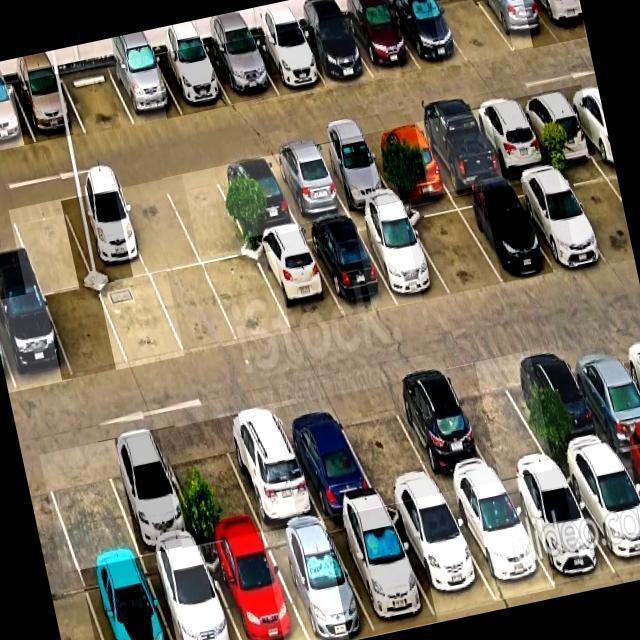empty: (447, 358, 554, 479), (331, 385, 439, 502), (158, 422, 262, 543), (40, 442, 139, 568), (404, 199, 502, 294), (163, 167, 252, 263), (115, 180, 200, 274), (9, 200, 94, 293), (98, 275, 184, 366), (557, 160, 633, 262), (151, 265, 239, 353), (44, 286, 128, 377), (204, 255, 291, 341), (60, 64, 135, 133), (431, 0, 513, 63)
occupied: (324, 507, 437, 635), (386, 370, 499, 492), (385, 496, 497, 615), (262, 521, 374, 640), (502, 469, 615, 586), (444, 481, 555, 600), (217, 404, 321, 529), (98, 431, 200, 554), (275, 398, 378, 516), (514, 344, 615, 464), (201, 533, 309, 640), (560, 453, 640, 579), (506, 170, 607, 269), (454, 187, 552, 282), (252, 229, 343, 331), (143, 545, 240, 640), (303, 218, 397, 316), (353, 209, 450, 302), (563, 336, 640, 451), (60, 190, 149, 284), (81, 557, 172, 640), (0, 293, 72, 390), (415, 112, 503, 191), (214, 156, 299, 237), (266, 146, 349, 224), (313, 136, 397, 211), (364, 124, 449, 198), (469, 100, 551, 174), (516, 90, 596, 163), (343, 4, 420, 78), (387, 0, 467, 69), (296, 17, 373, 86), (154, 48, 231, 115), (108, 55, 182, 124), (12, 73, 85, 142), (249, 30, 325, 95), (205, 40, 277, 104), (480, 0, 559, 50), (0, 84, 35, 150), (532, 0, 586, 41)
